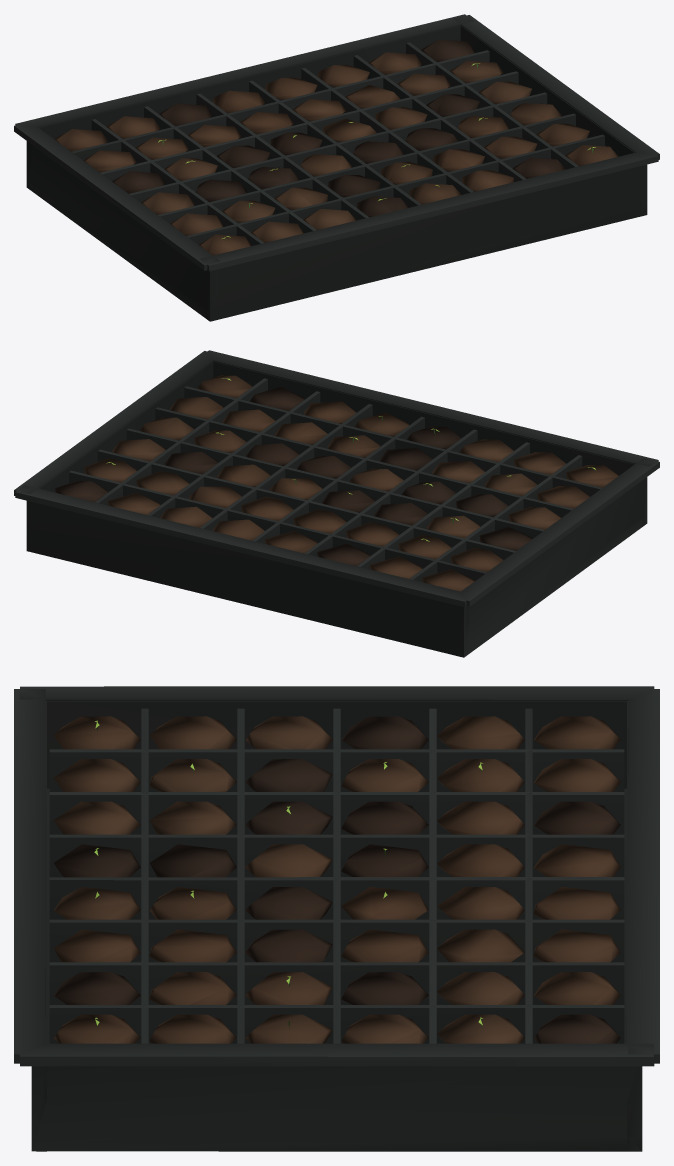
The model's file is canopy_seed_tray_lod2.glb.
3 renders of one model, top to bottom at view 1: azimuth 30°, elevation 25°; view 2: azimuth 150°, elevation 25°; view 3: azimuth 270°, elevation 25°, orthographic. The views are drawn at different scales.
Parts seen in each view (by area): view 1: canopy_seed_tray.001; view 2: canopy_seed_tray.001; view 3: canopy_seed_tray.001.
Boxes of the visible parts, bbox=[...] form: canopy_seed_tray.001: bbox=[14, 14, 659, 321]; canopy_seed_tray.001: bbox=[14, 350, 659, 657]; canopy_seed_tray.001: bbox=[14, 686, 659, 1151].
Size of the model in its own units: 22.82 by 2.97 by 16.82.
